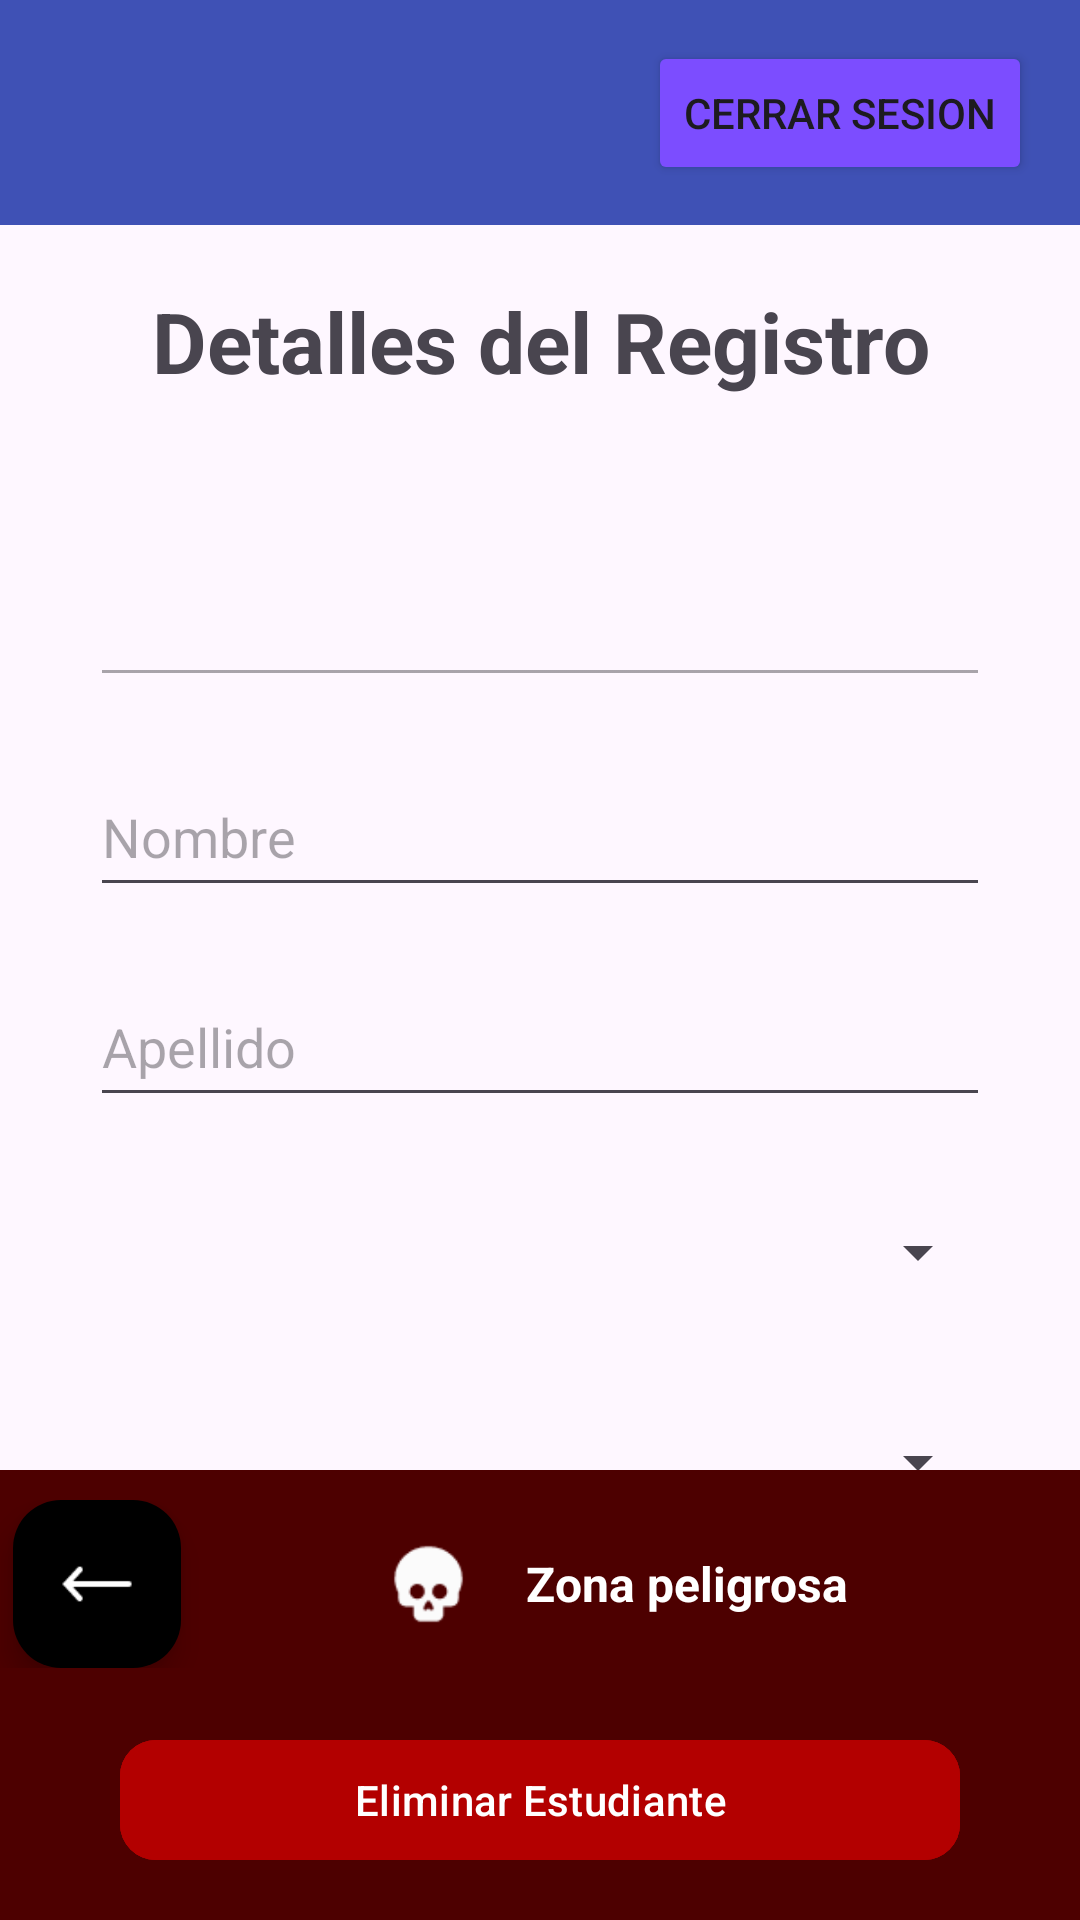

Icons on this 1080px x 1920px Android screen, each with its box as [left=x1, top=y1, right=x2, bottom=y2]:
left arrow: [left=13, top=1500, right=181, bottom=1668]
skull: [left=394, top=1546, right=463, bottom=1622]
